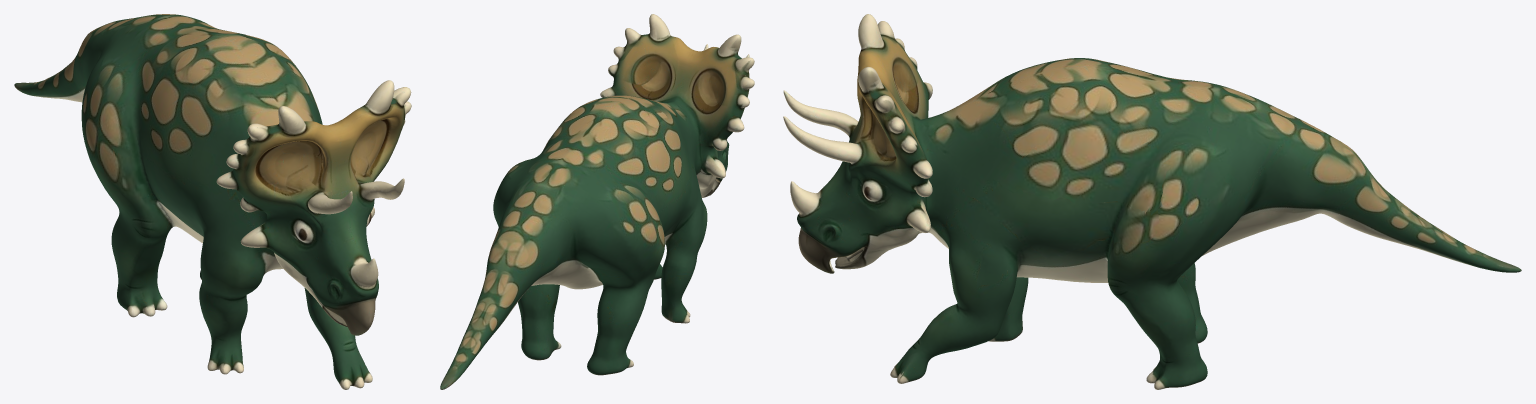
Rendered from X-dino.glb.
3 views of the same model, side by side, from view 1: azimuth 30°, elevation 25°; view 2: azimuth 150°, elevation 25°; view 3: azimuth 270°, elevation 25° (orthographic). The views are drawn at different scales.
Size of the model in its own units: 0.5838 by 0.9033 by 1.9.
Materials: 1 (1 with a texture image).
